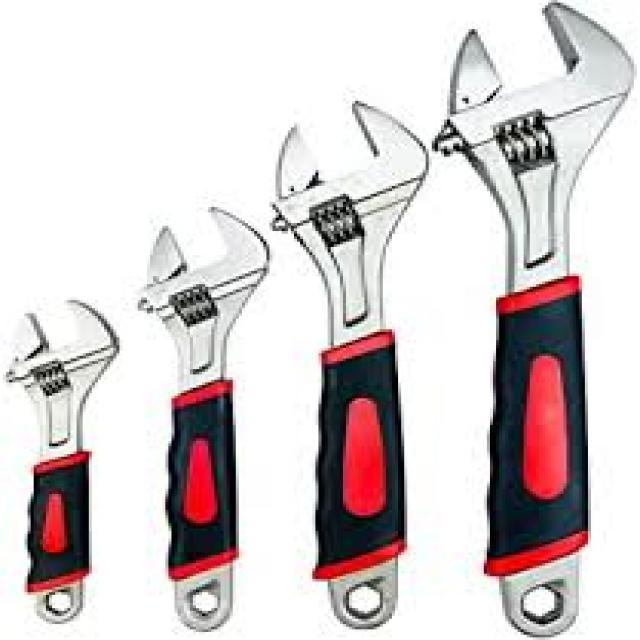wrench: (428, 0, 640, 640), (265, 91, 438, 640), (123, 199, 280, 640), (0, 287, 129, 629)
